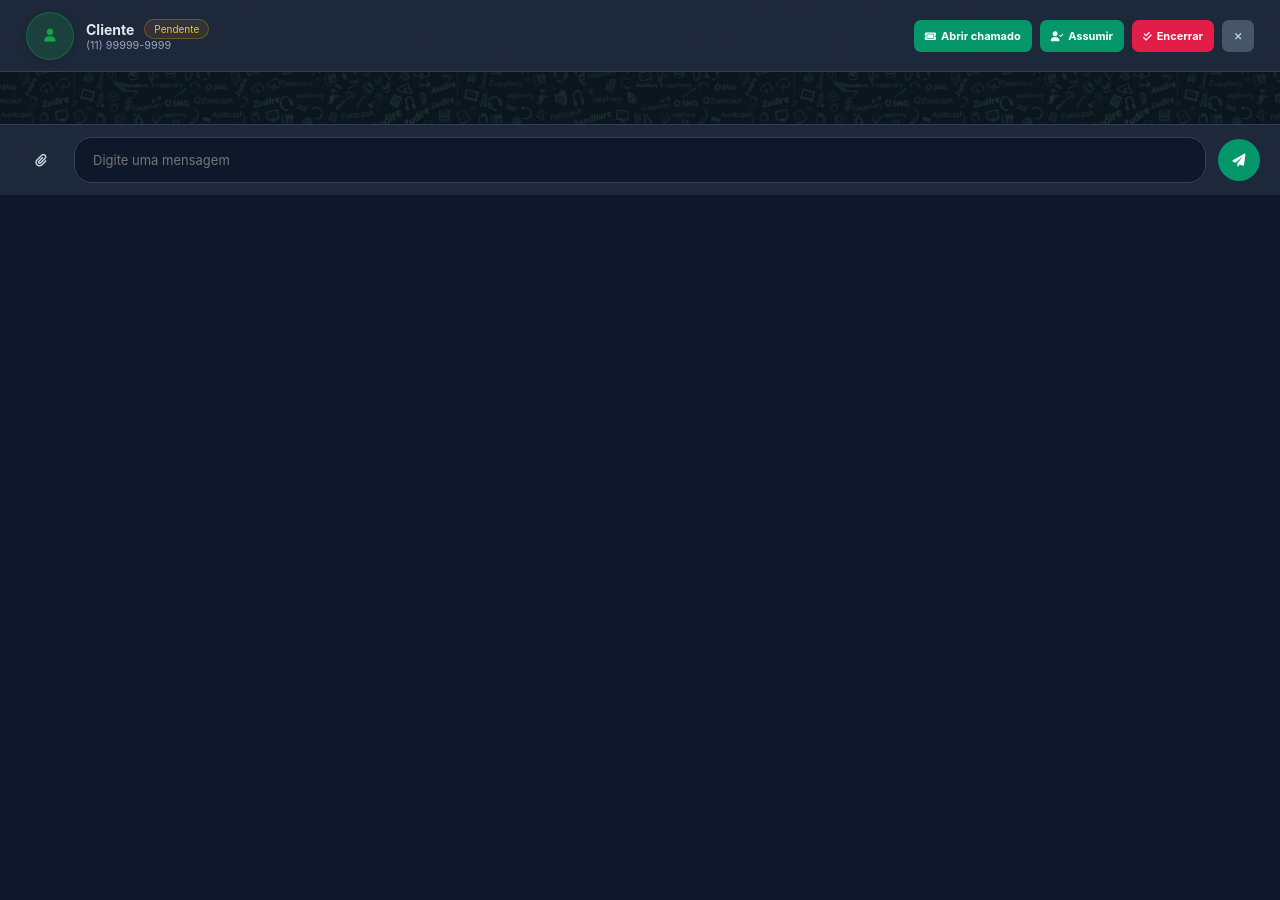
Test: ChatPanel › abre as informações do contato ao clicar no perfil
The image size is (1280, 900).
Click the button named "Ver informações do contato" at (50, 36), box [26,12,74,60]
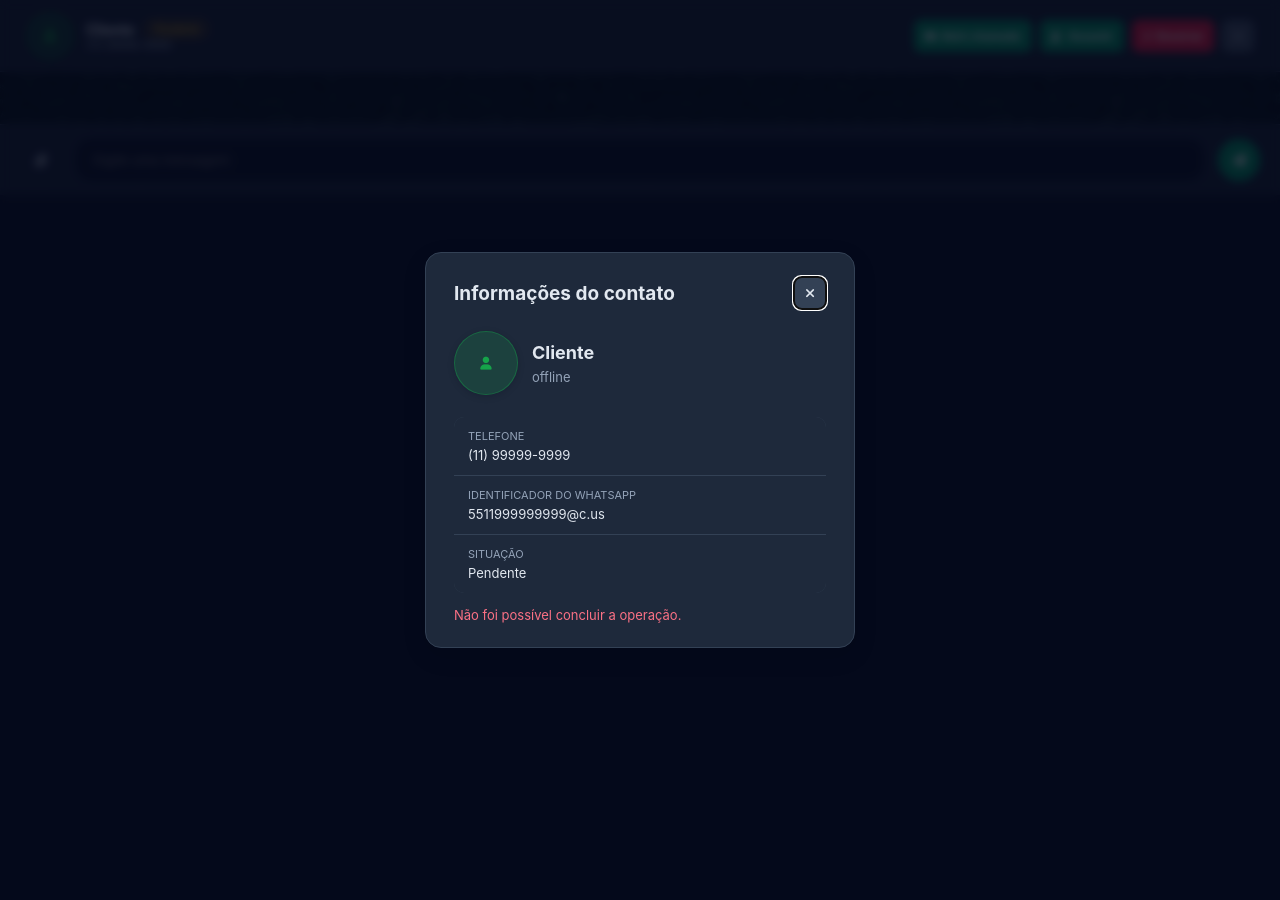
Check: the dialog "Informações do contato" is shown, box [425,252,855,648]
Check: the text "5511999999999@c.us" is shown, box [468,506,605,522]
